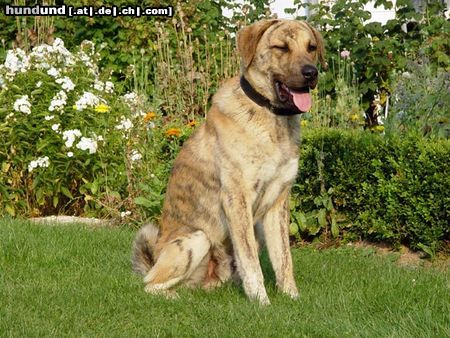kangal: (130, 17, 328, 307)
